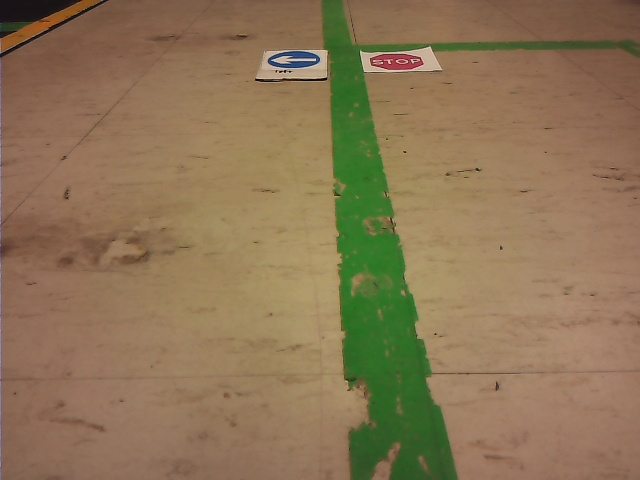STOP: (369, 53, 423, 70)
TURN LEFT: (268, 51, 319, 67)
